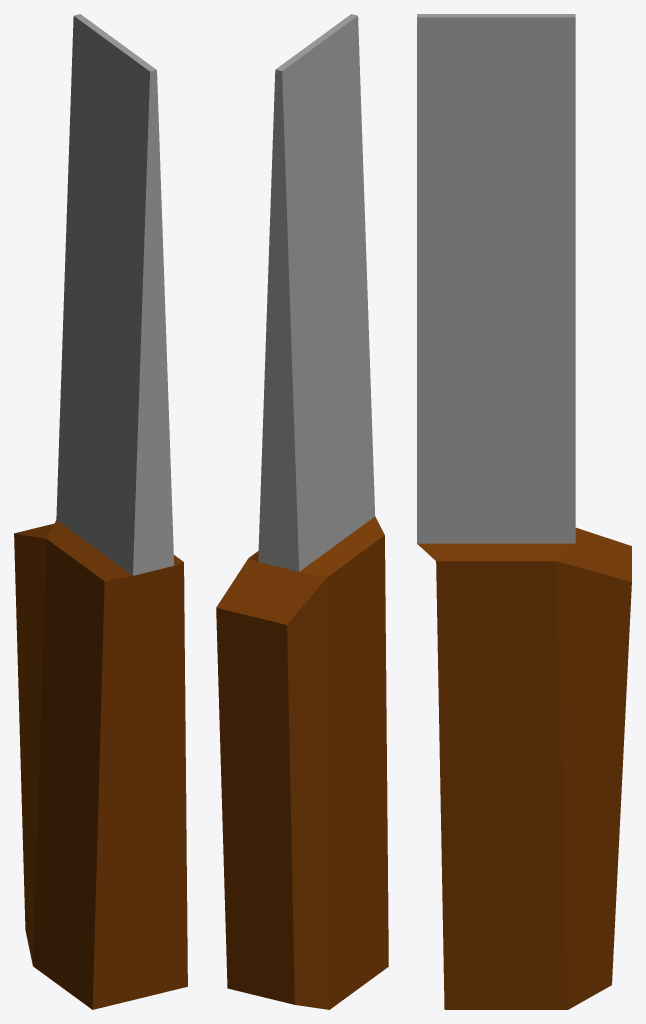
Rendered from myKnife.fbx.
The picture shows the model from 3 angles, left to right: view 1: azimuth 30°, elevation 25°; view 2: azimuth 150°, elevation 25°; view 3: azimuth 270°, elevation 25°; orthographic projection. The views are drawn at different scales.
Visible parts, largest first — view 1: Cube; view 2: Cube; view 3: Cube.
Boxes of the visible parts, x1,y1,x2,y2 form: Cube: [14, 14, 187, 1009]; Cube: [216, 14, 388, 1009]; Cube: [417, 14, 631, 1009].
Bounding box in the file's own units: 46.26 × 435 × 87.28.
